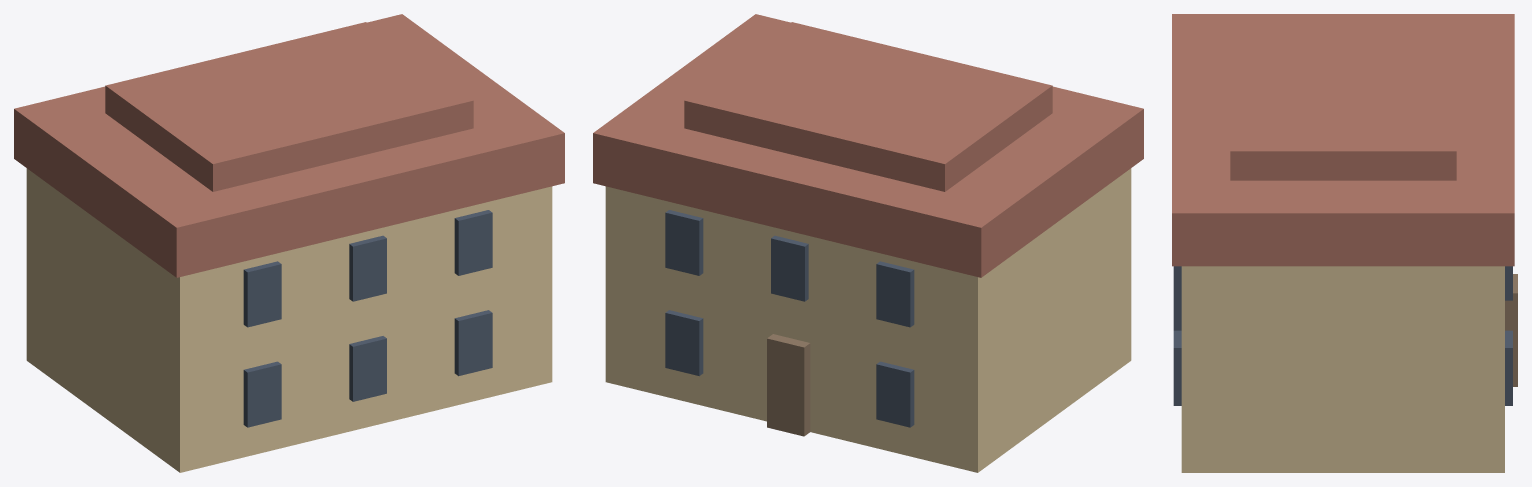
Rendered from house_a.glb.
The picture shows the model from 3 angles, left to right: view 1: azimuth 30°, elevation 25°; view 2: azimuth 150°, elevation 25°; view 3: azimuth 270°, elevation 25°; orthographic projection. The views are drawn at different scales.
Visible parts, largest first — view 1: walls, roof, ridge, win.006, win.008, win.009, win.011, win.010, win.007; view 2: walls, roof, ridge, door, win, win.002, win.003, win.005, win.004; view 3: walls, roof, ridge, door, win.008, win.002.
Part boxes in pixels (bbox=[...]): walls: bbox=[26, 168, 552, 472]; roof: bbox=[14, 14, 564, 277]; ridge: bbox=[105, 22, 473, 191]; win.006: bbox=[243, 361, 281, 427]; win.008: bbox=[454, 310, 492, 376]; win.009: bbox=[243, 261, 281, 327]; win.011: bbox=[454, 210, 492, 275]; win.010: bbox=[349, 235, 386, 301]; win.007: bbox=[349, 336, 386, 401]; walls: bbox=[605, 168, 1131, 472]; roof: bbox=[593, 14, 1143, 277]; ridge: bbox=[684, 22, 1052, 191]; door: bbox=[767, 334, 810, 436]; win: bbox=[876, 361, 914, 427]; win.002: bbox=[665, 310, 703, 376]; win.003: bbox=[876, 261, 914, 327]; win.005: bbox=[665, 210, 703, 275]; win.004: bbox=[771, 235, 808, 301]; walls: bbox=[1181, 266, 1504, 472]; roof: bbox=[1172, 14, 1514, 266]; ridge: bbox=[1230, 17, 1456, 180]; door: bbox=[1505, 274, 1517, 386]; win.008: bbox=[1173, 330, 1181, 405]; win.002: bbox=[1505, 330, 1512, 405].
Size of the model in its own units: 14.6 by 10 by 10.7.
